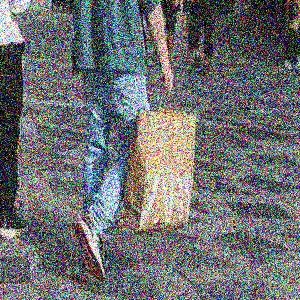zara: (129, 85, 263, 256)
